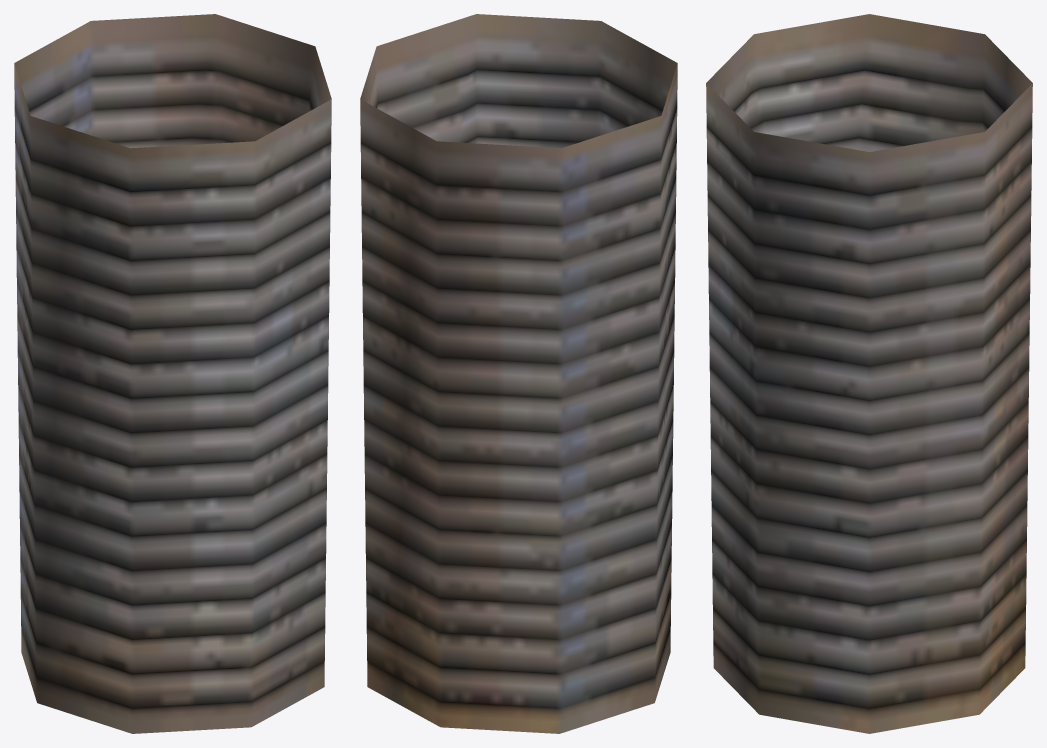
File: edb_con_tato_cup_s4_l1.fbx
3 views of the same model, side by side, from view 1: azimuth 30°, elevation 25°; view 2: azimuth 150°, elevation 25°; view 3: azimuth 270°, elevation 25° (orthographic).
Parts seen in each view (by area): view 1: mesh_node; view 2: mesh_node; view 3: mesh_node.
Boxes of the visible parts, <box> form: mesh_node: <box>14,14,331,733</box>; mesh_node: <box>360,14,677,733</box>; mesh_node: <box>706,14,1032,733</box>.
Bounding box in the file's own units: 0.1209 × 0.2389 × 0.1209.
